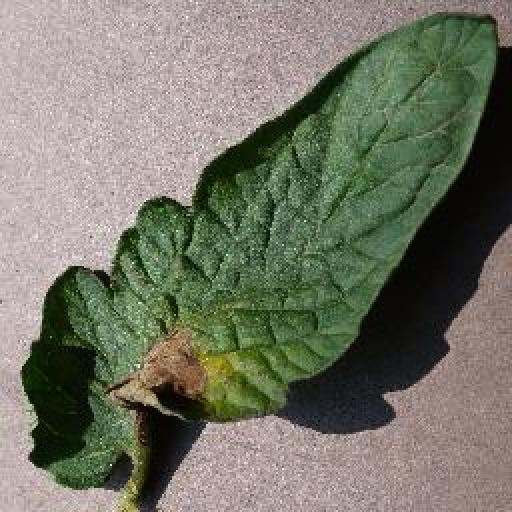disease_tomato: (20, 9, 498, 491)
